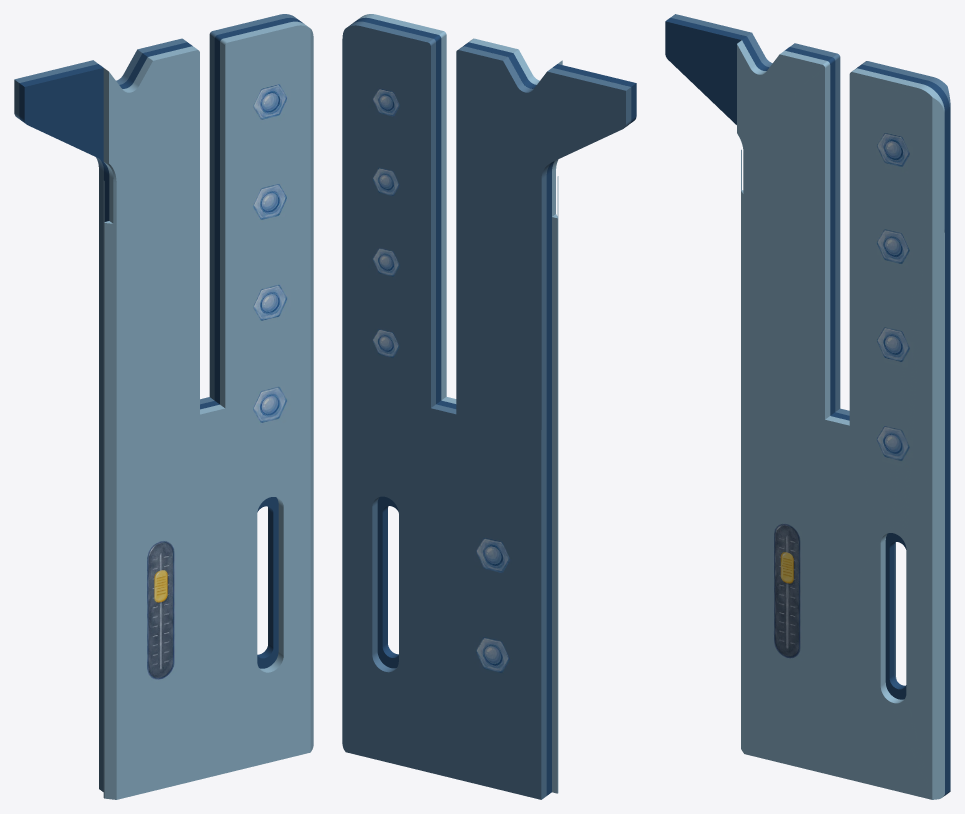
Rendered from door-right.glb.
3 views of the same model, side by side, from view 1: azimuth 30°, elevation 25°; view 2: azimuth 150°, elevation 25°; view 3: azimuth 330°, elevation 25° (orthographic). The views are drawn at different scales.
Parts seen in each view (by area): view 1: door-right; view 2: door-right; view 3: door-right.
Part boxes in pixels (x1=…): door-right: x1=14, y1=14, x2=313, y2=799; door-right: x1=342, y1=14, x2=636, y2=799; door-right: x1=665, y1=14, x2=950, y2=799.
Bounding box in the file's own units: 382 × 925 × 36.
Materials: 5 (2 with a texture image).
